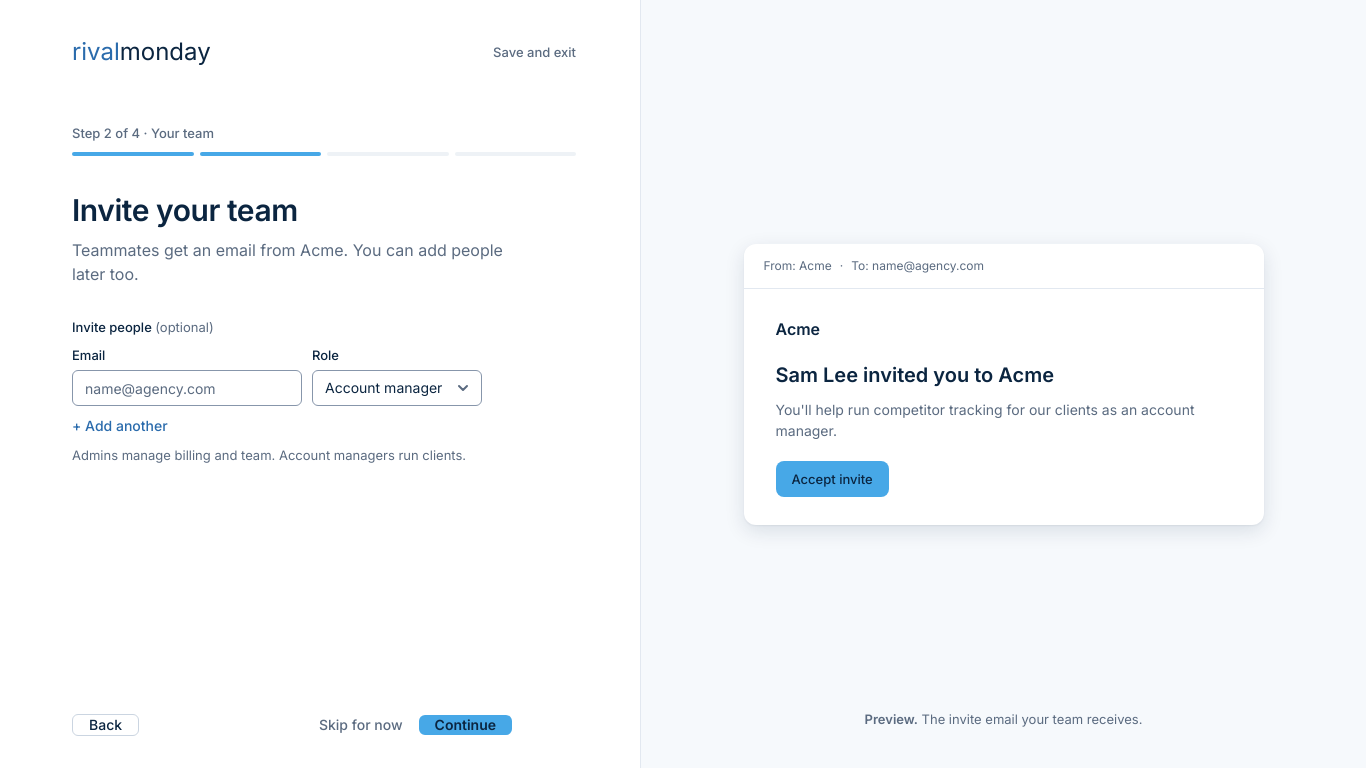
Test: TeamStep › the invite email preview names the agency, the inviter and the first address
In the field labelled "Email": (187, 388) [72,370,302,406], type "jordan@a.co"
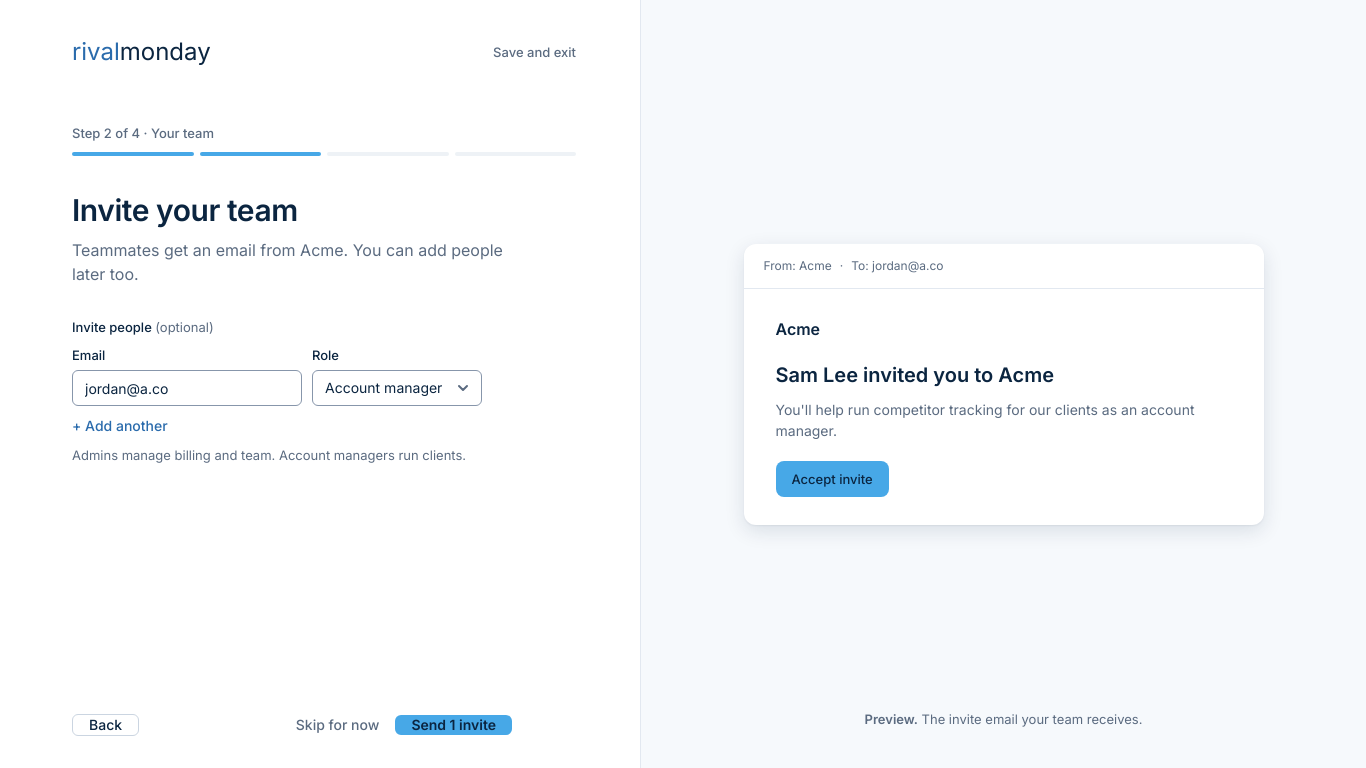
Expected: the text "Sam Lee invited you to Acme" is shown, [776,362,1054,386]
Now the text "To: jordan@a.co" is shown, box [851,258,944,272]
